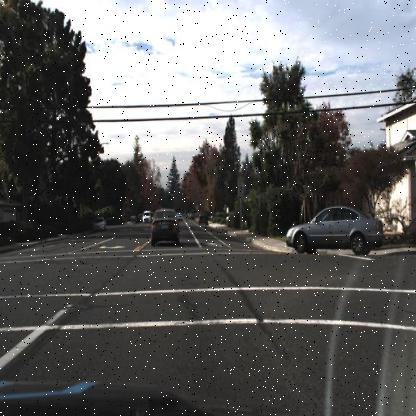car: (286, 205, 386, 256), (150, 208, 179, 245), (93, 215, 107, 233), (197, 210, 210, 226), (141, 208, 152, 224)
